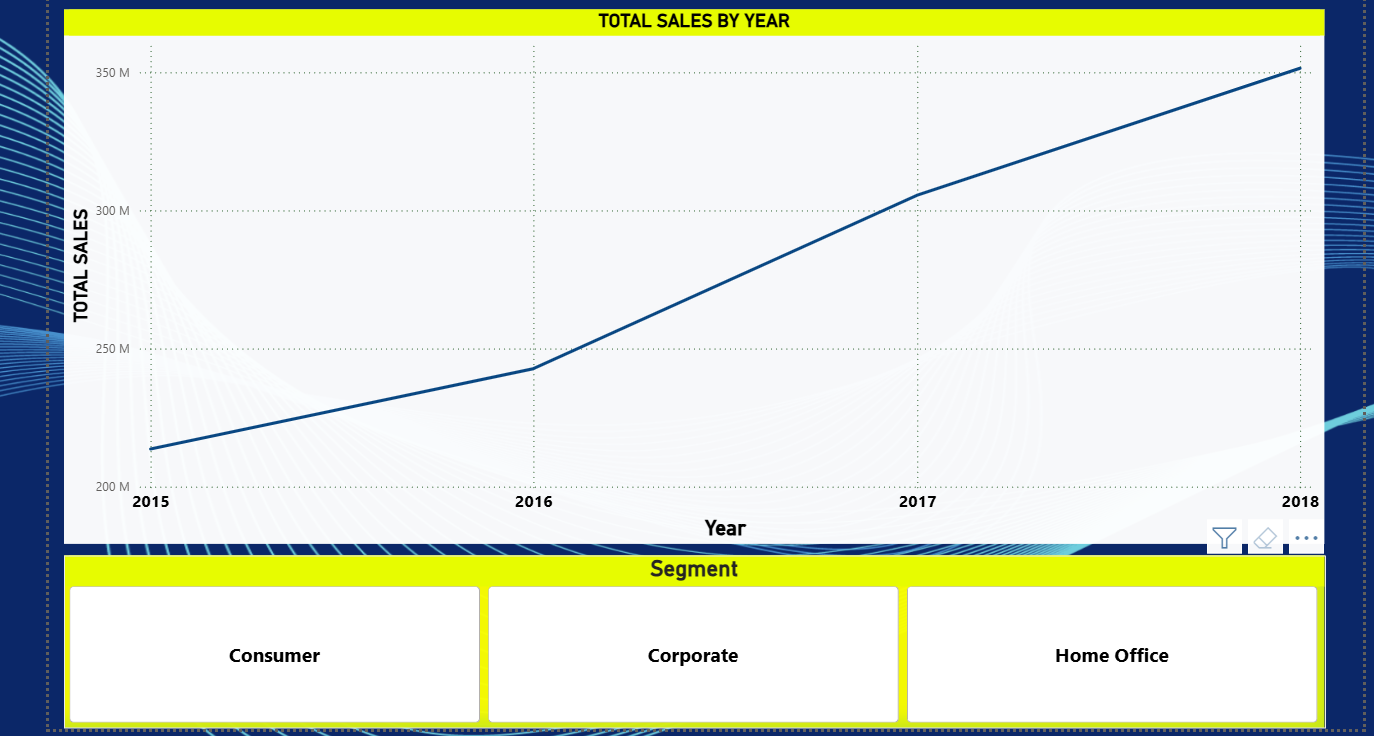

This screenshot's page, from the dashboard's own definition file:
{"tool":"powerbi","page":{"name":"2. sayfa","canvas":[1280,720],"ordinal":1},"visuals":[{"type":"lineChart","title":"TOTAL SALES BY YEAR","fields":{"Category":["train.Order Date.Varyasyon.Tarih Hiyerarşisi.Yıl","train.Order Date.Varyasyon.Tarih Hiyerarşisi.Çeyrek","train.Order Date.Varyasyon.Tarih Hiyerarşisi.Ay","train.Order Date.Varyasyon.Tarih Hiyerarşisi.Gün"],"Y":["train.TOTAL SALES"]},"box":[15.1,19.7,1228,520.9],"z":0},{"type":"advancedSlicerVisual","fields":{"Values":["train.Segment"]},"box":[15.1,551.2,1228,168.1],"z":1000}]}

Visuals, with their boxes on the page's 1280x720 design canvas (x1, y1, x2, y2). These are canvas units, not pixel positions in the 1374x736 screenshot, which may show the page scaled, cropped or inside an application window:
"TOTAL SALES BY YEAR" lineChart: 15 20 1243 541
advancedSlicerVisual - train.Segment: 15 551 1243 719
